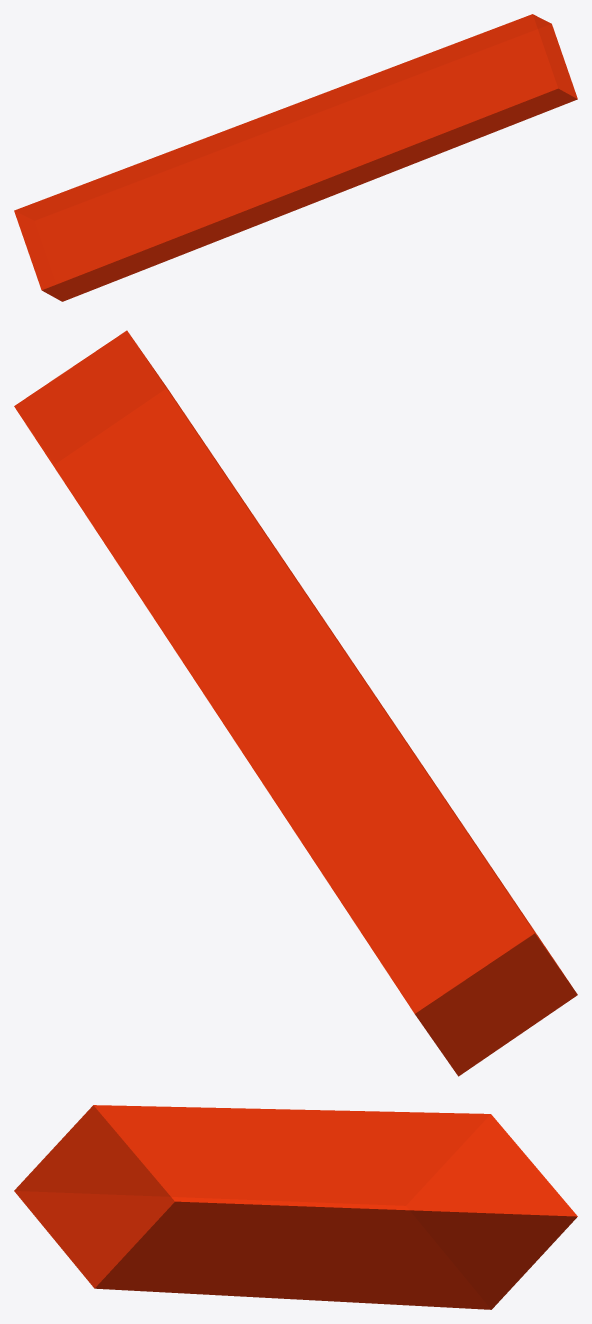
Rendered from Event_421364160_EBrechit_19.fbx.
3 views of the same model, one above another, from view 1: azimuth 30°, elevation 25°; view 2: azimuth 150°, elevation 25°; view 3: azimuth 270°, elevation 25° (orthographic). The views are drawn at different scales.
Parts seen in each view (by area): view 1: Model; view 2: Model; view 3: Model.
Part boxes in pixels (left/top/right/bottom): Model: left=14, top=14, right=577, bottom=301; Model: left=14, top=330, right=577, bottom=1076; Model: left=14, top=1105, right=577, bottom=1309.
Bounding box in the file's own units: 0.3471 × 0.228 × 0.2526.
